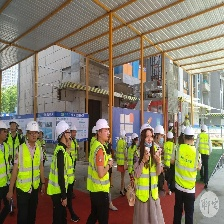helmet: (54, 120, 72, 136), (93, 118, 110, 130), (25, 121, 40, 134), (182, 127, 197, 137)
person: (47, 117, 84, 224), (130, 121, 168, 224), (14, 120, 46, 224), (86, 117, 115, 224), (173, 126, 199, 224)
vest: (16, 142, 45, 196), (87, 141, 112, 192), (176, 142, 199, 191), (51, 148, 68, 194)
